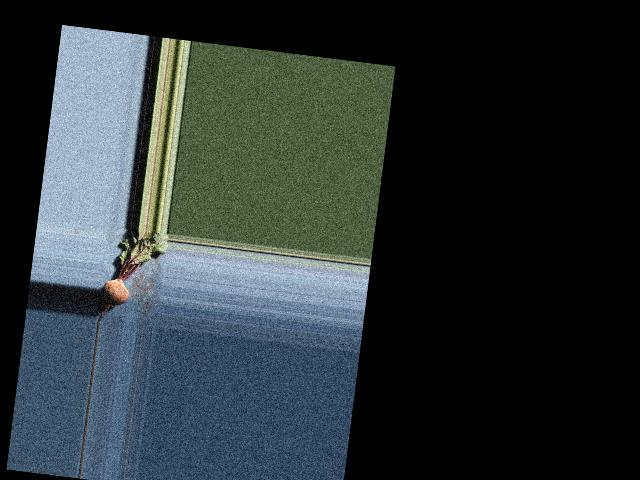beet: (98, 225, 169, 328)
